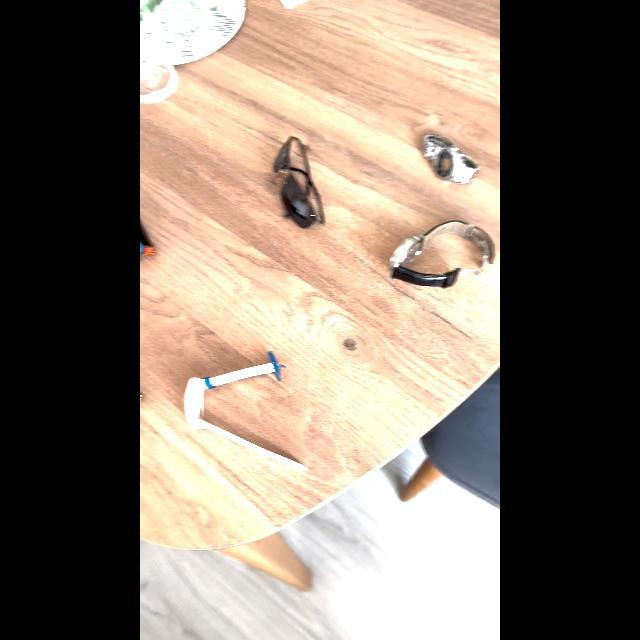eyewear: (258, 123, 338, 233)
